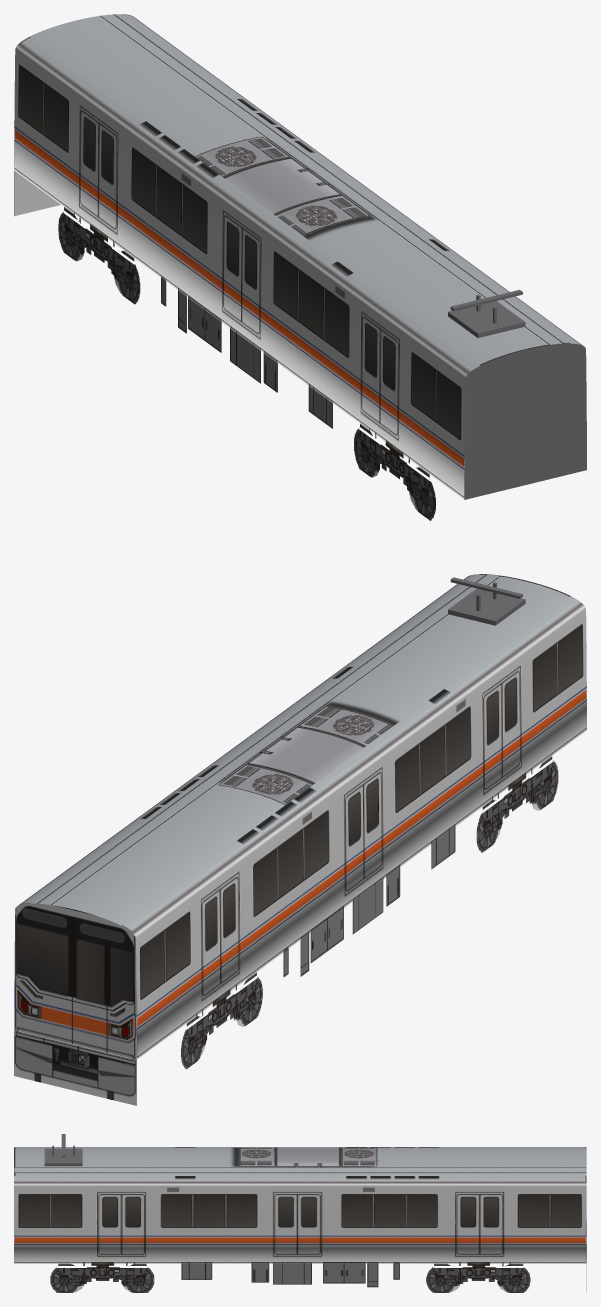
File: car2.glb
The picture shows the model from 3 angles, top to bottom: view 1: azimuth 30°, elevation 25°; view 2: azimuth 150°, elevation 25°; view 3: azimuth 270°, elevation 25°; orthographic projection. The views are drawn at different scales.
Parts seen in each view (by area): view 1: hokuriku-03-car2; view 2: hokuriku-03-car2; view 3: hokuriku-03-car2.
Part boxes in pixels (left/top/right/bottom): hokuriku-03-car2: left=14, top=14, right=586, bottom=520; hokuriku-03-car2: left=14, top=574, right=586, bottom=1105; hokuriku-03-car2: left=14, top=1134, right=586, bottom=1292.
Size of the model in its own units: 2.83 by 4.48 by 18.01.
Materials: 5 (4 with a texture image).
